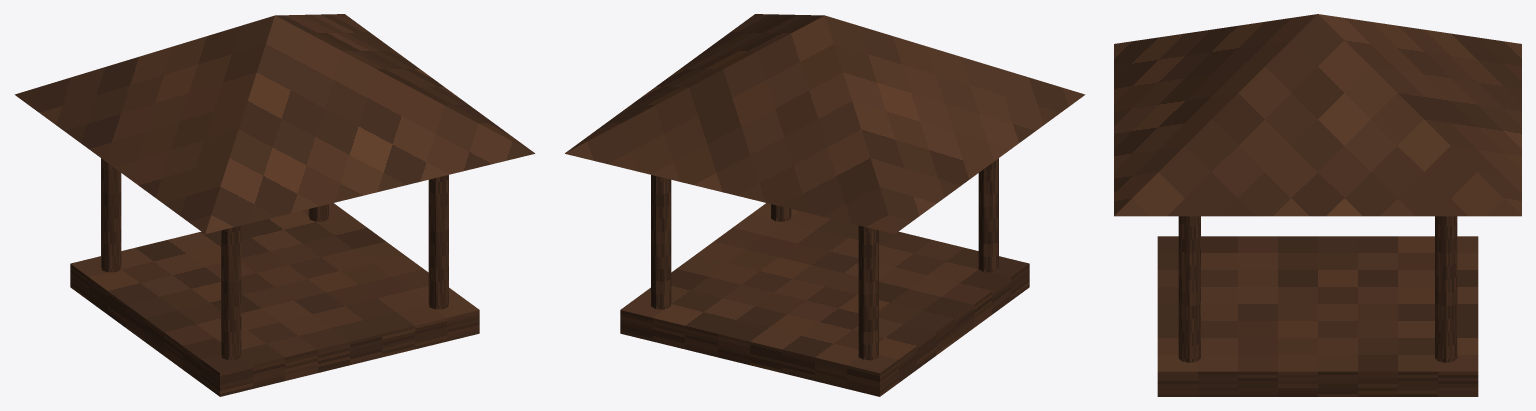
The model's file is pavilion_54.glb.
3 views of the same model, side by side, from view 1: azimuth 30°, elevation 25°; view 2: azimuth 150°, elevation 25°; view 3: azimuth 270°, elevation 25° (orthographic). The views are drawn at different scales.
Parts seen in each view (by area): view 1: Roof, Floor, Column, Column.002, Column.001; view 2: Roof, Floor, Column.001, Column.003, Column; view 3: Roof, Floor, Column.002, Column.003.
Boxes of the visible parts, box(x1,y1,x2,y2) form: Roof: box(14, 14, 534, 234); Floor: box(70, 203, 479, 396); Column: box(221, 225, 241, 360); Column.002: box(428, 175, 448, 309); Column.001: box(101, 158, 121, 272); Roof: box(565, 14, 1085, 234); Floor: box(620, 203, 1029, 396); Column.001: box(858, 225, 878, 360); Column.003: box(651, 175, 671, 309); Column: box(978, 158, 998, 272); Roof: box(1114, 14, 1521, 216); Floor: box(1157, 236, 1478, 396); Column.002: box(1178, 216, 1200, 362); Column.003: box(1435, 216, 1457, 362).
Size of the model in its own units: 4.39 by 3.75 by 4.39.
1 material, 1 textured.
